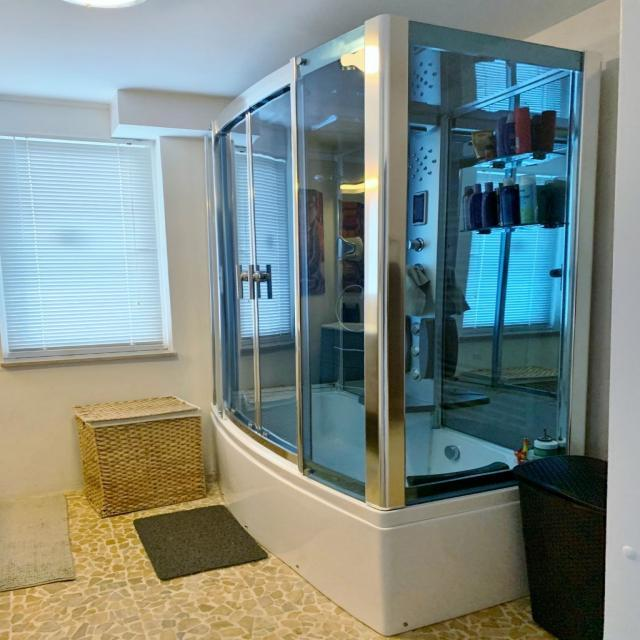douche: (208, 14, 604, 638)
